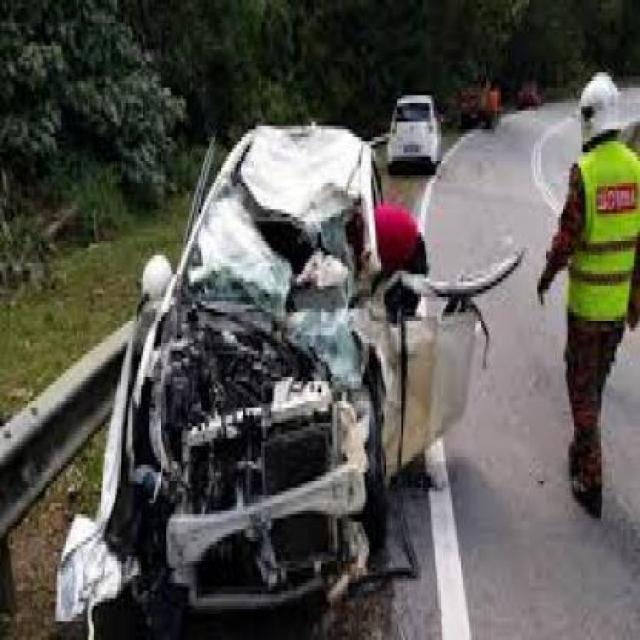accident: (63, 112, 494, 640)
